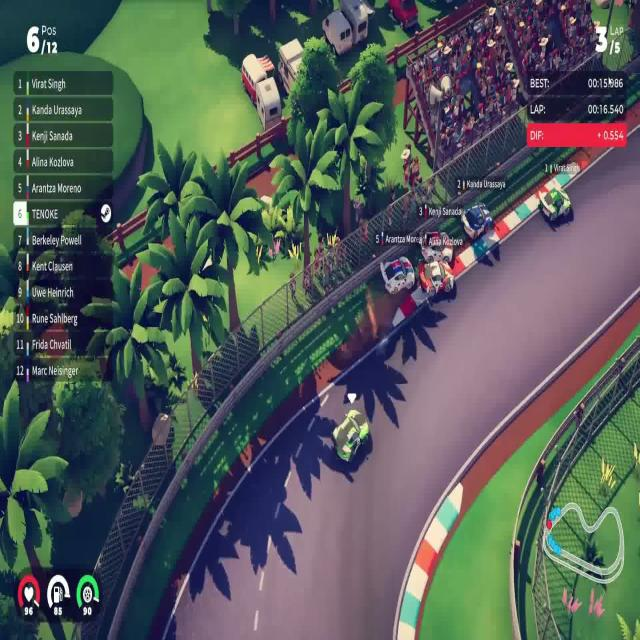car: (330, 407, 370, 465), (379, 255, 415, 296), (418, 258, 454, 297), (460, 201, 493, 241), (538, 186, 571, 224), (420, 230, 454, 266)
